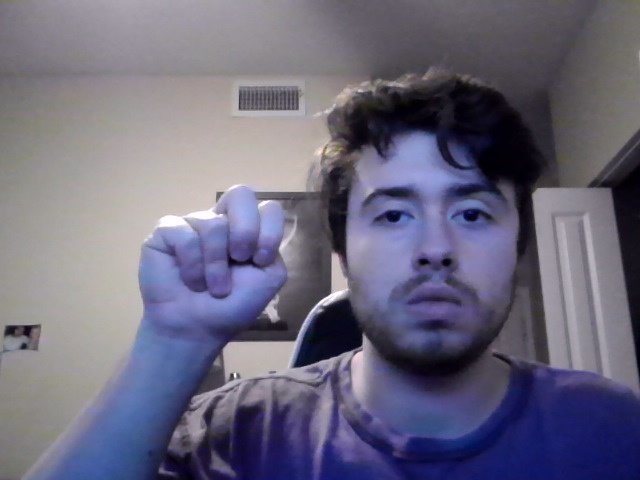n: (138, 184, 289, 348)
